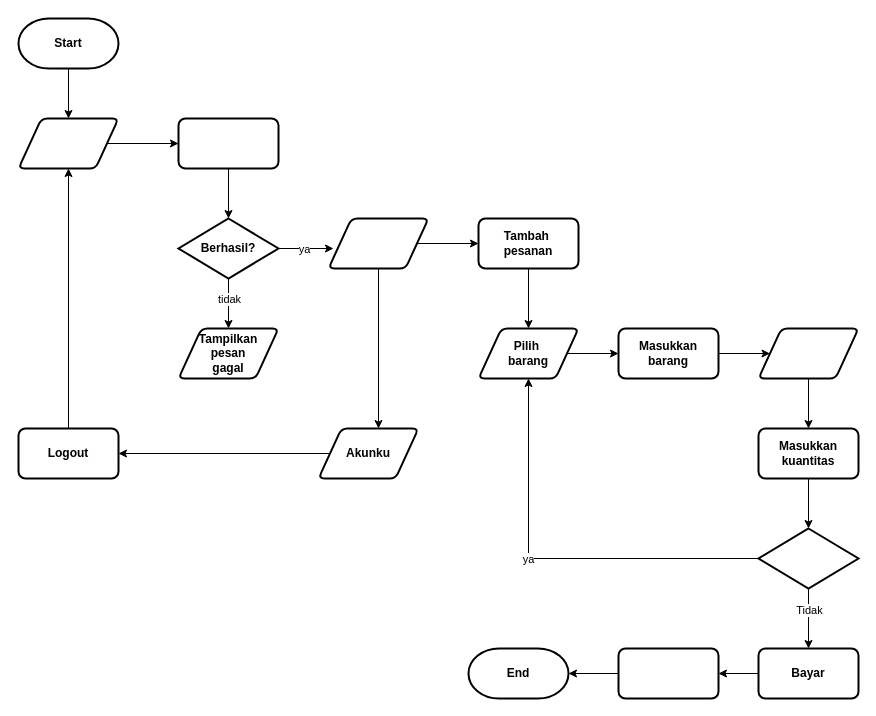
The diagram is 876 pixels wide and 716 high, and some of its shapes have lost their labels. The centre of each missing label's shape, as x and y in pixels:
Cetak: point (668, 673)
Detail barang: point (808, 353)
Halaman kasir: point (378, 243)
Index: point (68, 143)
Login: point (228, 143)
Tambah pesanan?: point (808, 558)
